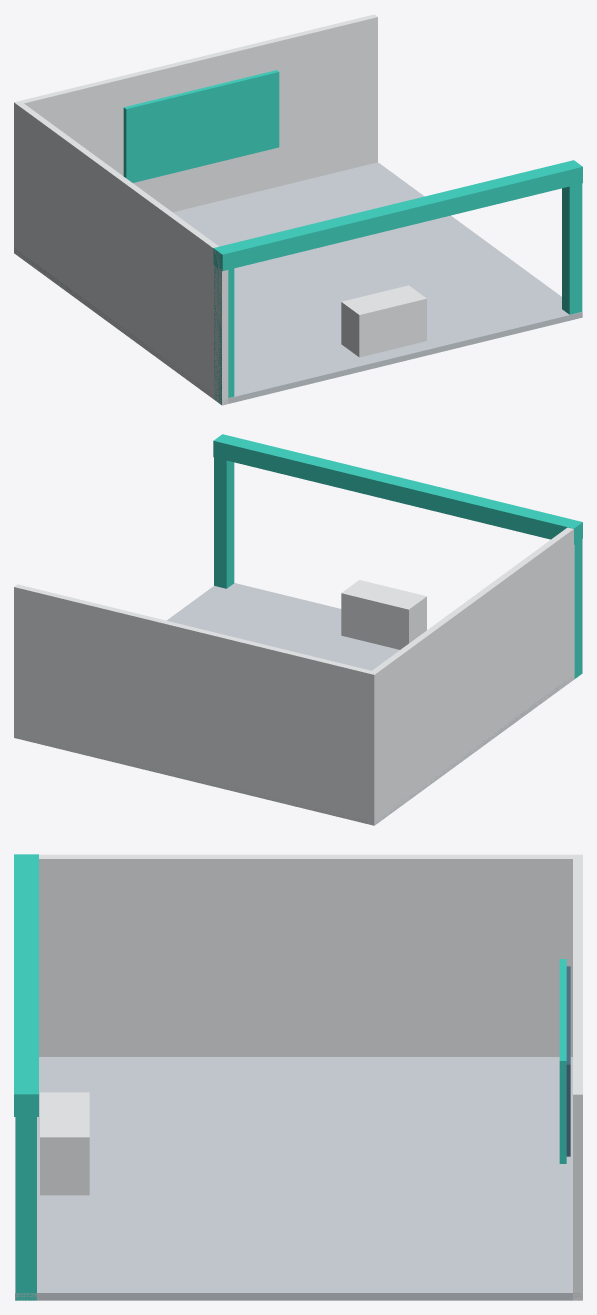
3 views of the same model, one above another, from view 1: azimuth 30°, elevation 25°; view 2: azimuth 150°, elevation 25°; view 3: azimuth 270°, elevation 25° (orthographic). The views are drawn at different scales.
Parts seen in each view (by area): view 1: Exhibition Booth Concept; view 2: Exhibition Booth Concept; view 3: Exhibition Booth Concept.
Part boxes in pixels (x1,y1,x2,y2): Exhibition Booth Concept: (14,14,582,405); Exhibition Booth Concept: (14,434,582,825); Exhibition Booth Concept: (14,854,582,1300).
Size of the model in its own units: 8 by 3.2 by 8.01.
